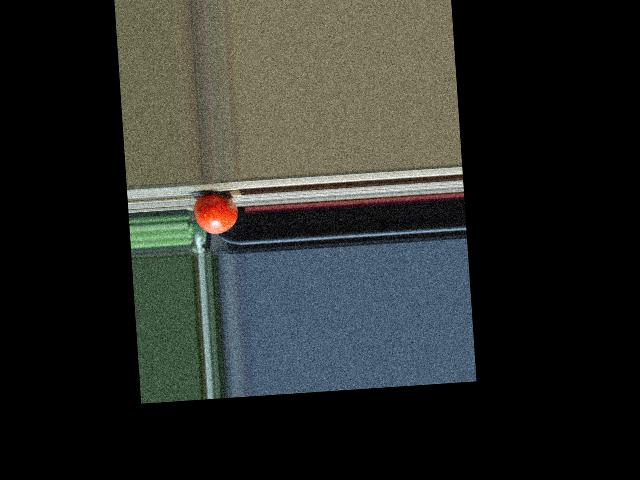tomato: (192, 192, 238, 235)
